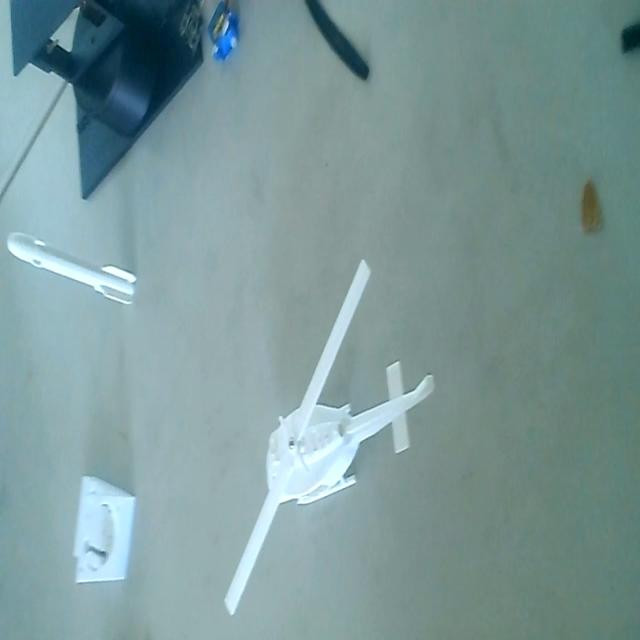Helicopter: (218, 255, 439, 614)
Rocket: (5, 220, 140, 318)
